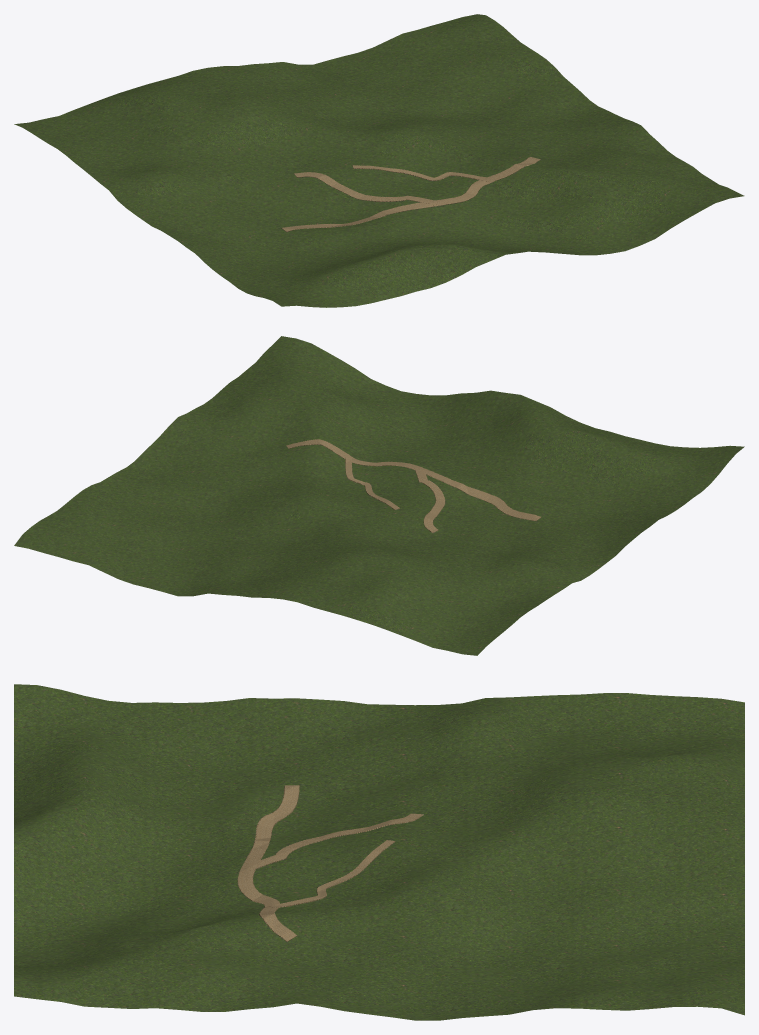
The model's file is Level6B1.fbx.
3 renders of one model, top to bottom at view 1: azimuth 30°, elevation 25°; view 2: azimuth 150°, elevation 25°; view 3: azimuth 270°, elevation 25°, orthographic. The views are drawn at different scales.
Parts seen in each view (by area): view 1: Landscape, Plane, Plane.001, Plane.002; view 2: Landscape, Plane, Plane.001; view 3: Landscape, Plane, Plane.001, Plane.002.
Boxes of the visible parts, x1,y1,x2,y2 form: Landscape: (14,14,744,307); Plane: (281,156,540,232); Plane.001: (294,172,438,205); Plane.002: (352,165,490,181); Landscape: (14,336,744,655); Plane: (286,439,541,520); Plane.001: (414,468,445,532); Landscape: (14,684,744,1020); Plane: (237,785,299,941); Plane.001: (243,813,423,870); Plane.002: (269,840,395,907).
Size of the model in its own units: 20507 by 1576 by 20507.
